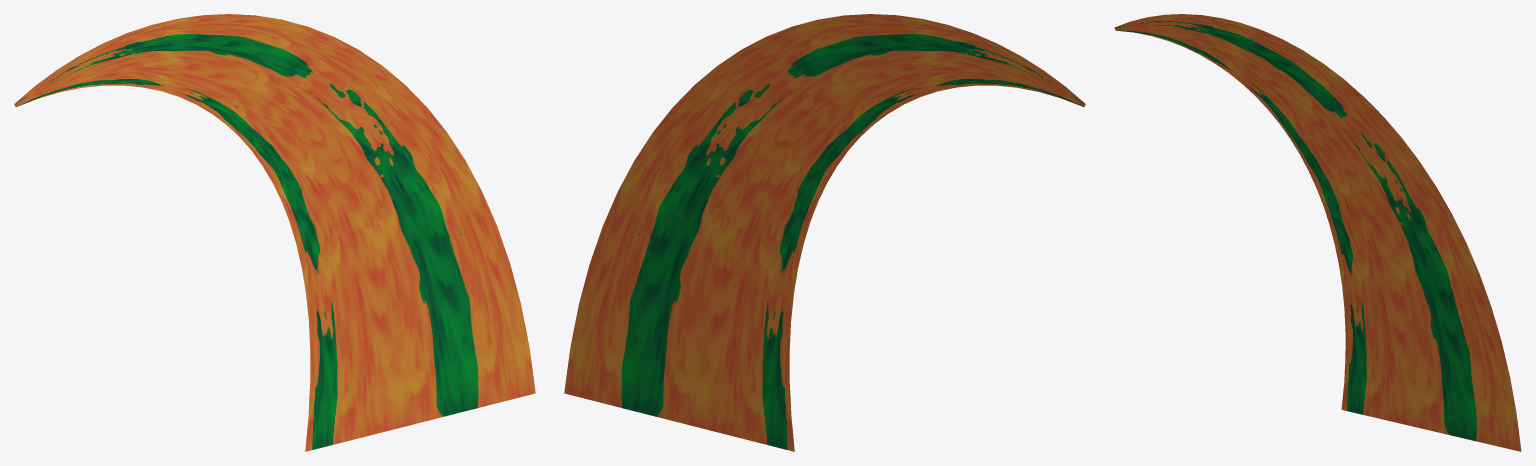
File: p_trashbot_loop_sprinkler01.fbx
The picture shows the model from 3 angles, left to right: view 1: azimuth 30°, elevation 25°; view 2: azimuth 150°, elevation 25°; view 3: azimuth 330°, elevation 25°; orthographic projection. The views are drawn at different scales.
Visible parts, largest first — view 1: trashbot_loop_sprinkler01_test; view 2: trashbot_loop_sprinkler01_test; view 3: trashbot_loop_sprinkler01_test.
Part boxes in pixels (<box>): trashbot_loop_sprinkler01_test: <box>14,14,535,451</box>; trashbot_loop_sprinkler01_test: <box>564,14,1085,451</box>; trashbot_loop_sprinkler01_test: <box>1114,14,1521,451</box>.
Size of the model in its own units: 54.11 by 46.05 by 2.42e-06.
